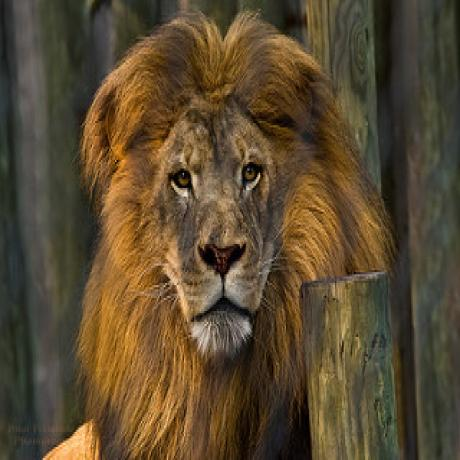Lion: (44, 0, 387, 460)
